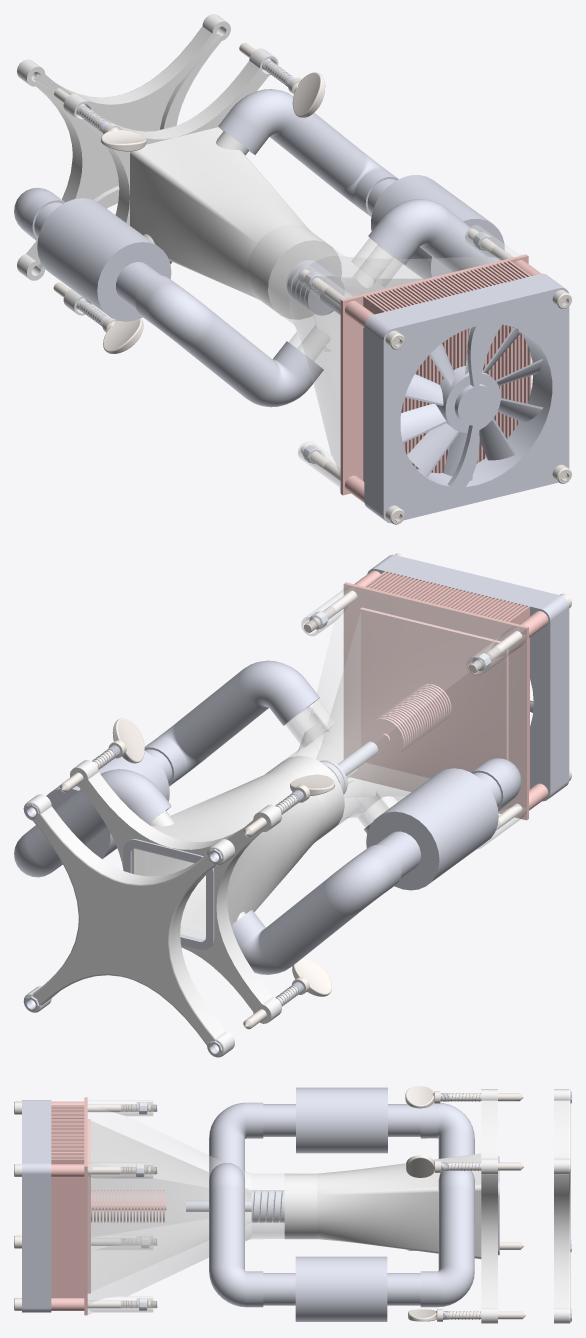
The model's file is dissipatore modellino.glb.
3 views of the same model, one above another, from view 1: azimuth 30°, elevation 25°; view 2: azimuth 150°, elevation 25°; view 3: azimuth 270°, elevation 25° (orthographic). The views are drawn at different scales.
Parts seen in each view (by area): view 1: Estrusione-Estrusione6, Specchia1, Obj_Estrusione-Estrusione3 (×2), Taglio-Estrusione4, Obj_Raccordo1 (×2), Ripetizione a L3, RipetizioneCircolare1, Estrusione-Estrusione3 (×2), Taglia-Rivoluzione2, Revolve1 (×3), ThdSchPat (×3), Estrusione-Estrusione4 (+1 smaller); view 2: Taglio-Estrusione4, Ripetizione a L3, Specchia1, RipetizioneCircolare1, Estrusione-Estrusione3 (×2), Obj_Raccordo1 (×2), Estrusione-Estrusione6, Obj_Estrusione-Estrusione3 (×2), Revolve1 (×3), Estrusione-Sottile2, Raccordo3, Estrusione-Estrusione4 (+1 smaller); view 3: Taglio-Estrusione4, Obj_Raccordo1 (×2), Specchia1, Ripetizione a L3, Obj_Estrusione-Estrusione3 (×2), Estrusione-Estrusione3 (×2), Estrusione-Estrusione6, RipetizioneCircolare1, Revolve1 (×3), ThdSchPat (×4), Estrusione-Estrusione4.
Boxes of the visible parts, left/top/right/bottom form: Estrusione-Estrusione6: left=364, top=273, right=569, bottom=523; Specchia1: left=63, top=48, right=341, bottom=319; Obj_Estrusione-Estrusione3 (×2): left=135, top=199, right=499, bottom=407; Taglio-Estrusione4: left=268, top=225, right=524, bottom=491; Obj_Raccordo1 (×2): left=34, top=175, right=504, bottom=321; Ripetizione a L3: left=340, top=254, right=541, bottom=502; RipetizioneCircolare1: left=17, top=14, right=230, bottom=280; Estrusione-Estrusione3 (×2): left=14, top=89, right=398, bottom=263; Taglia-Rivoluzione2: left=400, top=327, right=543, bottom=480; Revolve1 (×3): left=53, top=42, right=325, bottom=353; ThdSchPat (×3): left=300, top=228, right=571, bottom=524; Estrusione-Estrusione4: left=286, top=260, right=344, bottom=315; Taglio-Estrusione4: left=285, top=584, right=526, bottom=848; Ripetizione a L3: left=343, top=570, right=548, bottom=820; Specchia1: left=70, top=755, right=344, bottom=1023; RipetizioneCircolare1: left=23, top=794, right=234, bottom=1057; Estrusione-Estrusione3 (×2): left=14, top=769, right=401, bottom=974; Obj_Raccordo1 (×2): left=46, top=749, right=501, bottom=890; Estrusione-Estrusione6: left=367, top=554, right=569, bottom=801; Obj_Estrusione-Estrusione3 (×2): left=144, top=660, right=521, bottom=833; Revolve1 (×3): left=60, top=718, right=335, bottom=1029; Estrusione-Sottile2: left=123, top=839, right=214, bottom=949; Raccordo3: left=285, top=699, right=336, bottom=747; Estrusione-Estrusione4: left=319, top=741, right=377, bottom=793; Taglio-Estrusione4: left=88, top=1098, right=284, bottom=1314; Obj_Raccordo1 (×2): left=263, top=1087, right=420, bottom=1321; Specchia1: left=284, top=1089, right=497, bottom=1323; Ripetizione a L3: left=51, top=1097, right=166, bottom=1315; Obj_Estrusione-Estrusione3 (×2): left=209, top=1102, right=263, bottom=1307; Estrusione-Estrusione3 (×2): left=420, top=1102, right=474, bottom=1307; Estrusione-Estrusione6: left=22, top=1100, right=51, bottom=1312; RipetizioneCircolare1: left=554, top=1089, right=570, bottom=1323; Revolve1 (×3): left=405, top=1086, right=525, bottom=1321; ThdSchPat (×4): left=14, top=1101, right=157, bottom=1310; Estrusione-Estrusione4: left=186, top=1190, right=284, bottom=1222.
Size of the model in its own units: 0.2195 by 0.1171 by 0.34.
